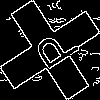P: (25, 25, 81, 78)
